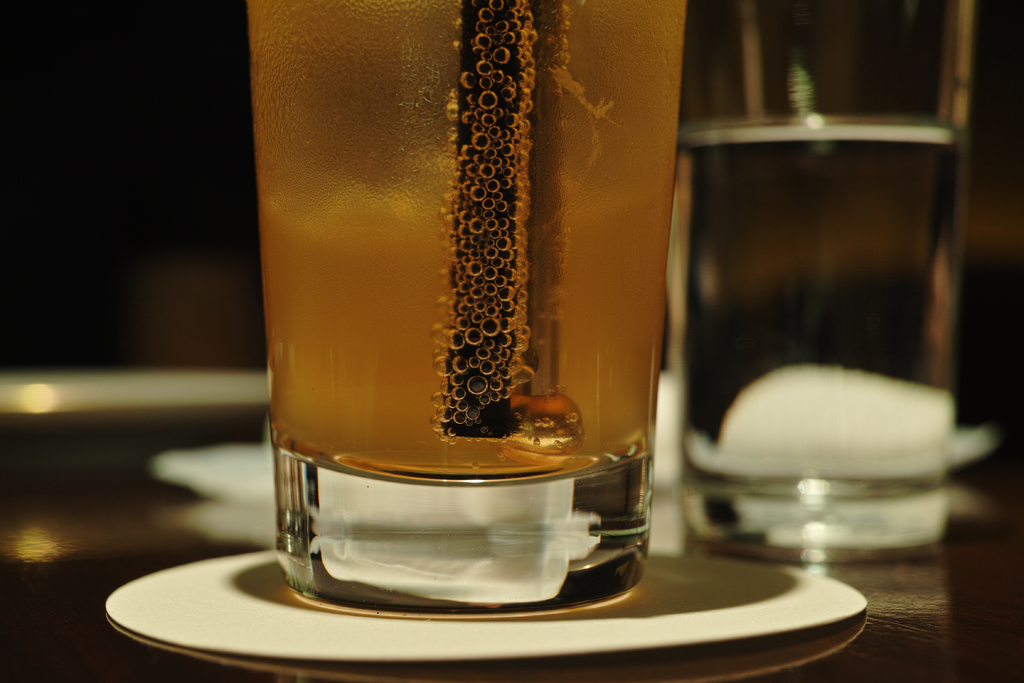Beer: (239, 0, 689, 640)
